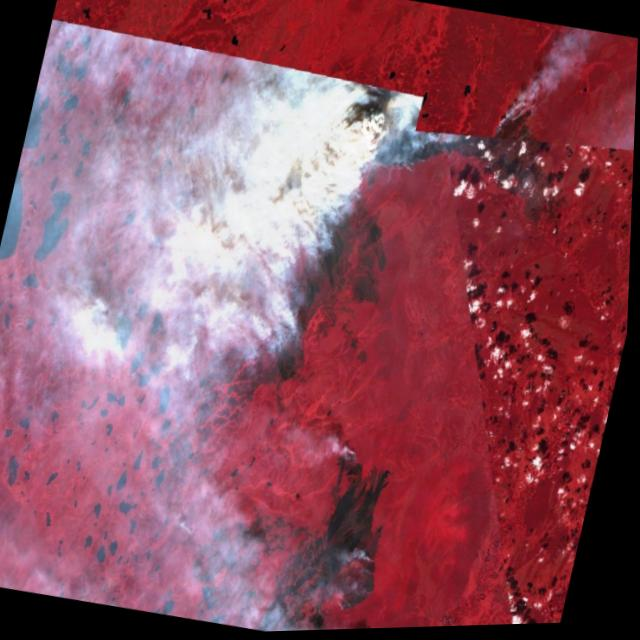fire: (339, 82, 450, 203), (322, 549, 393, 632), (481, 81, 551, 157), (327, 436, 376, 489)
